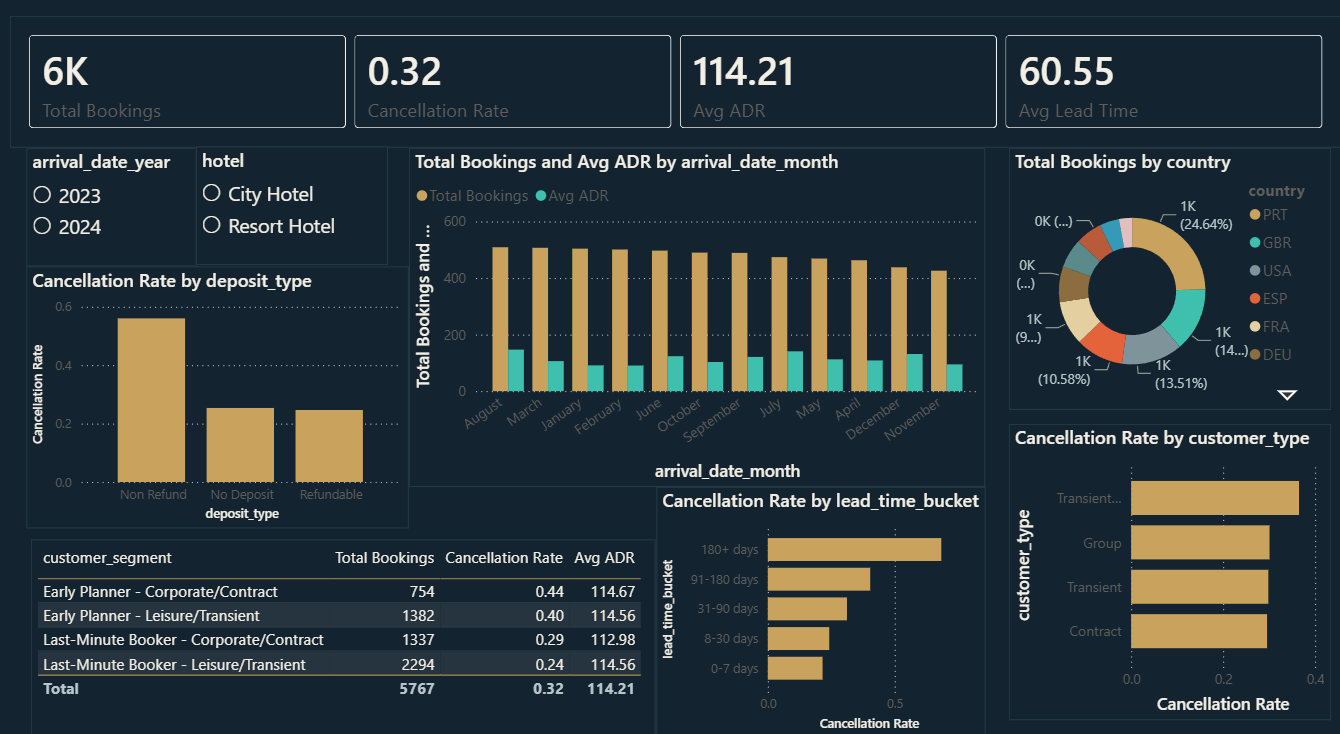

Layout of this report page (visuals, bound fields, positions):
{"tool":"powerbi","page":{"name":"Page 1","canvas":[1280,720],"ordinal":0},"visuals":[{"type":"cardVisual","fields":{"Data":["hotel_bookings_dashboard_ready.Total Bookings","hotel_bookings_dashboard_ready.Cancellation Rate","hotel_bookings_dashboard_ready.Avg ADR","hotel_bookings_dashboard_ready.Avg Lead Time"]},"box":[11.1,17.5,1269.3,125.7],"z":0},{"type":"clusteredBarChart","fields":{"Category":["hotel_bookings_dashboard_ready.lead_time_bucket"],"Y":["hotel_bookings_dashboard_ready.Cancellation Rate"]},"box":[626.7,466,313.4,238.6],"z":1000},{"type":"clusteredColumnChart","fields":{"Category":["hotel_bookings_dashboard_ready.deposit_type"],"Y":["hotel_bookings_dashboard_ready.Cancellation Rate"]},"box":[27.2,256.4,363.8,249.2],"z":2000},{"type":"lineClusteredColumnComboChart","fields":{"Category":["hotel_bookings_dashboard_ready.arrival_date_month"],"Y":["hotel_bookings_dashboard_ready.Total Bookings","hotel_bookings_dashboard_ready.Avg ADR"]},"box":[391.3,143.2,548.8,322.9],"z":3000},{"type":"tableEx","fields":{"Values":["hotel_bookings_dashboard_ready.customer_segment","hotel_bookings_dashboard_ready.Total Bookings","hotel_bookings_dashboard_ready.Cancellation Rate","hotel_bookings_dashboard_ready.Avg ADR"]},"box":[31.8,515.4,594.9,205.2],"z":4000},{"type":"donutChart","fields":{"Category":["hotel_bookings_dashboard_ready.country"],"Y":["hotel_bookings_dashboard_ready.Total Bookings"]},"box":[962.6,143.2,306.5,249.2],"z":5000},{"type":"barChart","fields":{"Category":["hotel_bookings_dashboard_ready.customer_type"],"Y":["hotel_bookings_dashboard_ready.Cancellation Rate"]},"box":[962.6,405.4,306.5,282.2],"z":6000},{"type":"listSlicer","fields":{"Values":["hotel_bookings_dashboard_ready.hotel"]},"box":[189.3,141.6,182.9,112.9],"z":7000},{"type":"listSlicer","fields":{"Values":["hotel_bookings_dashboard_ready.arrival_date_year"]},"box":[27,143.2,162.2,112.9],"z":8000}]}

Visuals, with their boxes in screenshot pixels (x1, y1, x2, y2), scaled from the page's 1280x720 canvas onto the 1340x734 screenshot:
cardVisual - hotel_bookings_dashboard_ready.Total Bookings x hotel_bookings_dashboard_ready.Cancellation Rate: bbox=(12, 18, 1339, 146)
clusteredBarChart - hotel_bookings_dashboard_ready.lead_time_bucket x hotel_bookings_dashboard_ready.Cancellation Rate: bbox=(656, 475, 984, 718)
clusteredColumnChart - hotel_bookings_dashboard_ready.deposit_type x hotel_bookings_dashboard_ready.Cancellation Rate: bbox=(28, 261, 409, 515)
lineClusteredColumnComboChart - hotel_bookings_dashboard_ready.arrival_date_month x hotel_bookings_dashboard_ready.Total Bookings: bbox=(410, 146, 984, 475)
tableEx - hotel_bookings_dashboard_ready.customer_segment x hotel_bookings_dashboard_ready.Total Bookings: bbox=(33, 525, 656, 733)
donutChart - hotel_bookings_dashboard_ready.country x hotel_bookings_dashboard_ready.Total Bookings: bbox=(1008, 146, 1329, 400)
barChart - hotel_bookings_dashboard_ready.customer_type x hotel_bookings_dashboard_ready.Cancellation Rate: bbox=(1008, 413, 1329, 701)
listSlicer - hotel_bookings_dashboard_ready.hotel: bbox=(198, 144, 390, 259)
listSlicer - hotel_bookings_dashboard_ready.arrival_date_year: bbox=(28, 146, 198, 261)
